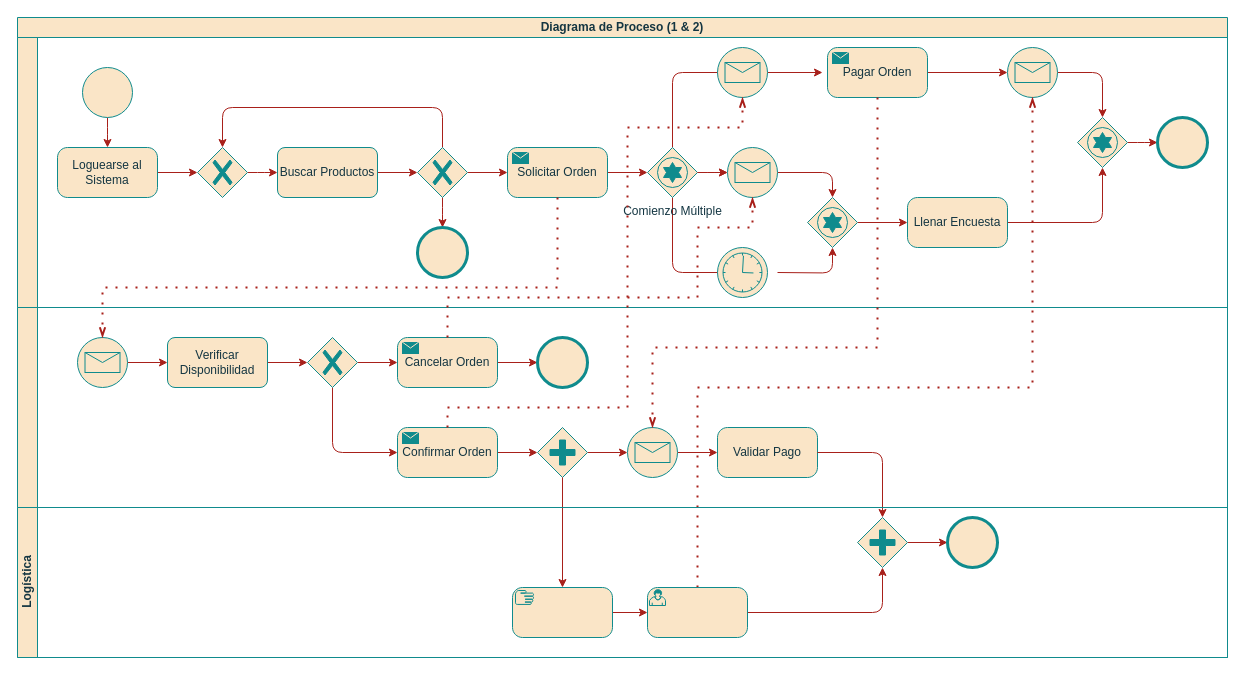
Some shapes in this 1245 by 675 pixel diagram are drawn without their labels. Each missing label, with the box of its shape:
Cliente: (16, 36, 1228, 308)
Compuerta Exclusiva: (196, 146, 248, 198)
Compuerta Paralela: (536, 426, 588, 478)
Hacer Entrega: (646, 586, 748, 638)
Preparar Entrega: (512, 586, 612, 638)
Vendedor: (16, 306, 1228, 508)
